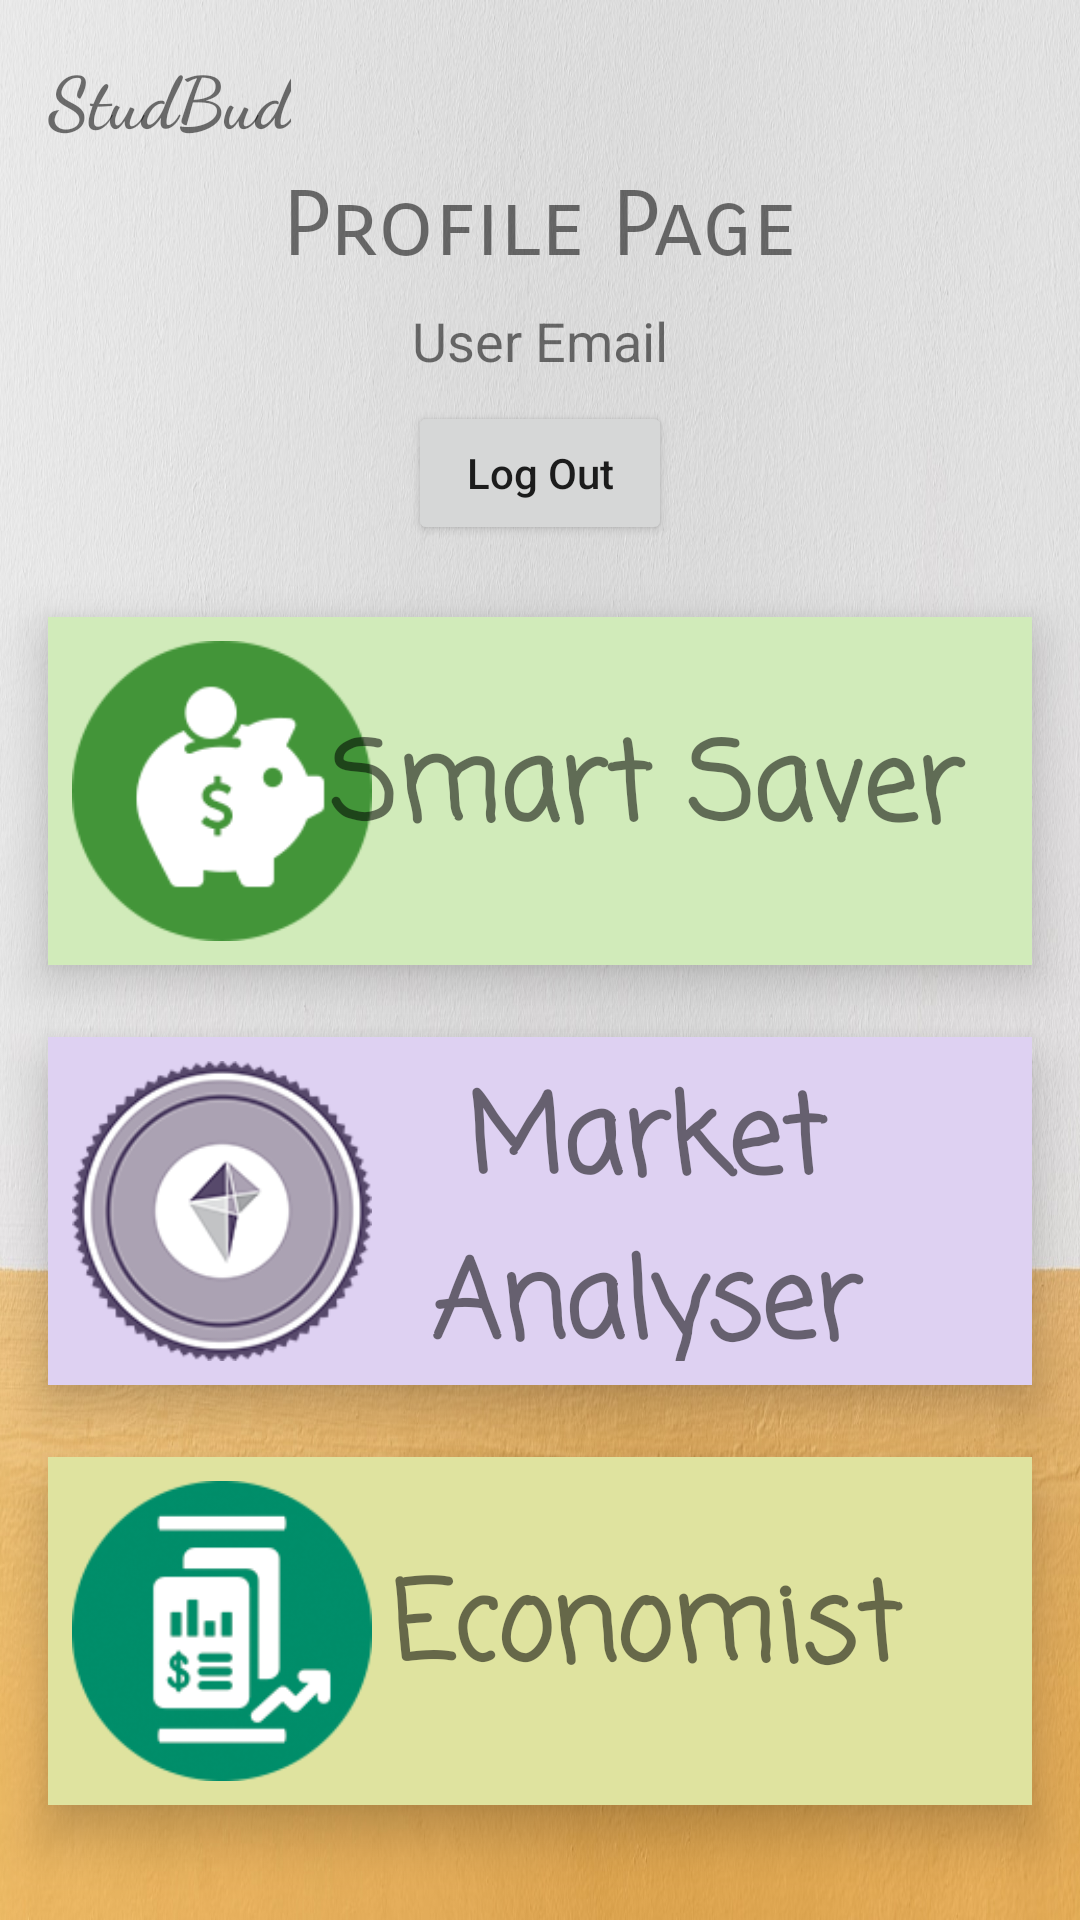

Screen size 1080x1920. Icon name, then its box in pixels as (x1, y1, x2, y2):
badge saving: (72, 641, 372, 941)
